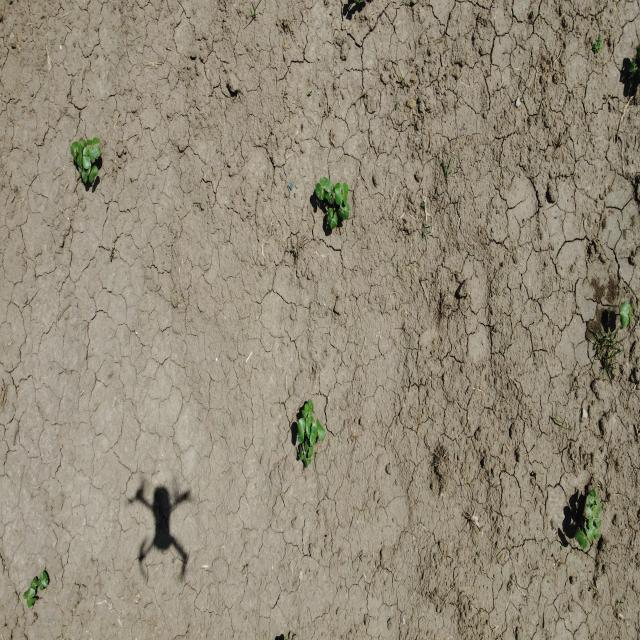seedling_s3: (620, 301, 630, 327), (575, 529, 588, 549), (316, 418, 325, 441), (585, 519, 594, 541), (593, 503, 601, 527), (334, 182, 342, 205), (585, 506, 593, 529), (82, 147, 90, 169), (585, 489, 596, 505), (298, 418, 305, 443), (82, 163, 91, 182), (320, 176, 330, 193), (89, 145, 100, 160), (89, 165, 98, 183), (310, 423, 317, 446), (72, 140, 84, 153), (23, 587, 35, 600), (76, 144, 82, 168), (315, 183, 323, 200), (40, 571, 48, 587), (302, 404, 310, 420), (330, 212, 338, 228), (338, 209, 349, 220), (86, 137, 99, 146), (343, 183, 348, 206), (70, 146, 77, 162), (340, 200, 350, 211), (328, 182, 334, 200), (306, 417, 311, 438), (596, 495, 601, 516), (325, 191, 333, 204), (327, 208, 333, 225), (593, 526, 600, 540), (298, 444, 304, 460), (31, 578, 38, 591), (27, 598, 36, 608), (305, 436, 310, 453), (308, 399, 314, 412), (308, 408, 313, 423), (37, 579, 43, 591), (308, 446, 313, 458), (303, 456, 308, 468)
